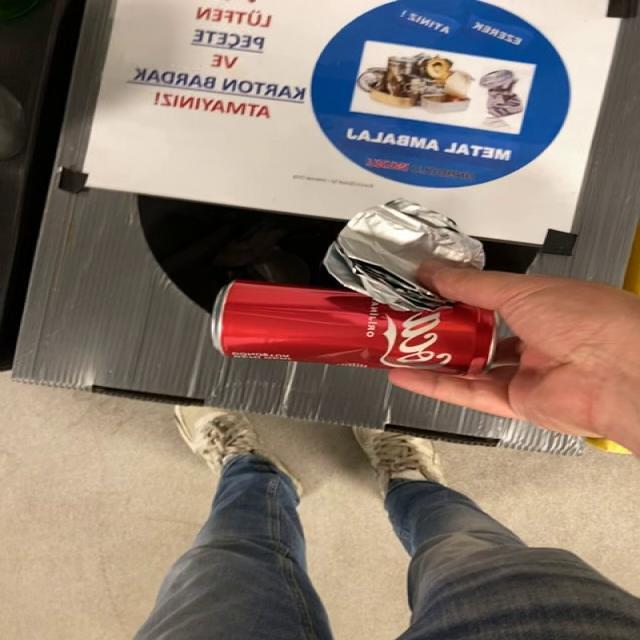Bin: (12, 0, 639, 455)
Metal: (211, 281, 508, 376)
